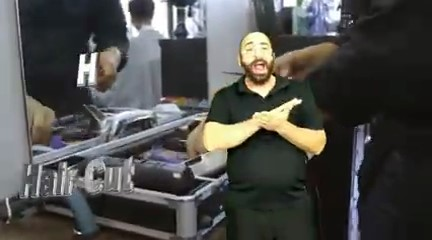H: (242, 94, 310, 139)
